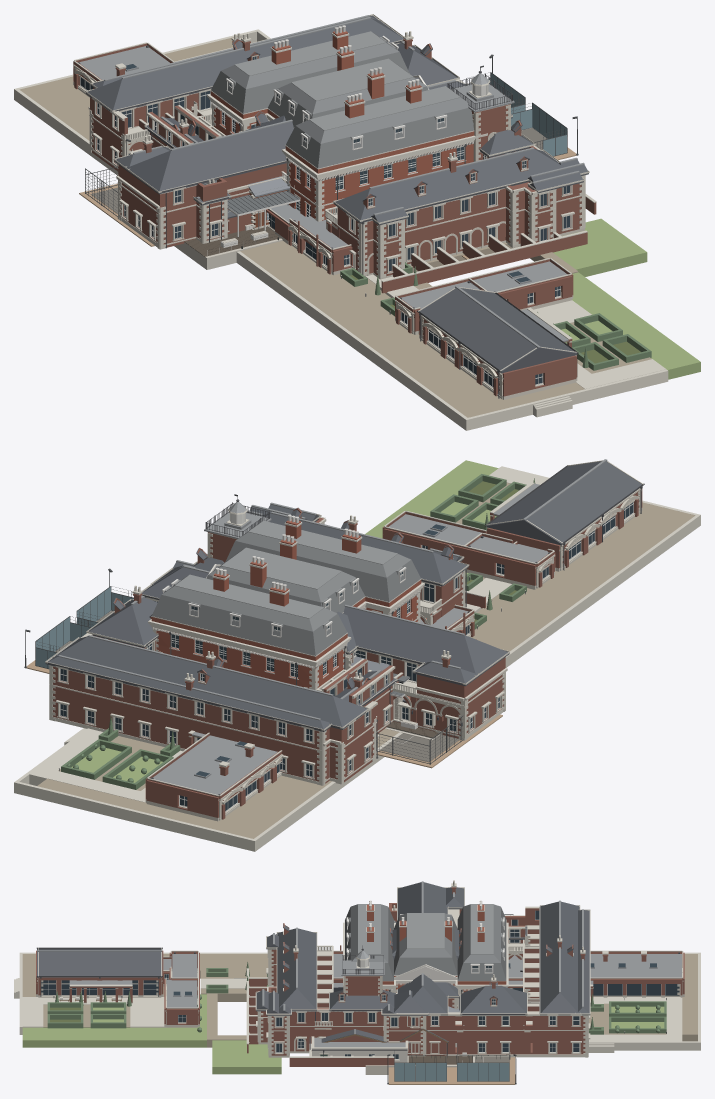
Rendered from assets.glb.
3 renders of one model, top to bottom at view 1: azimuth 30°, elevation 25°; view 2: azimuth 150°, elevation 25°; view 3: azimuth 270°, elevation 25°, orthographic. The views are drawn at different scales.
Parts seen in each view (by area): view 1: asset:spa-linear, asset:main-house, asset:north-courtyard, asset:south-courtyard.04, asset:south-courtyard.06, asset:south-courtyard.05, asset:courts, asset:river-club, asset:south-courtyard.03, smass_c_asset:south-courtyard.14, smass_c_asset:south-courtyard.15, smass_c_asset:south-courtyard.16 (+2 smaller); view 2: asset:spa-linear, asset:main-house, asset:south-courtyard.04, asset:south-courtyard.06, asset:south-courtyard.05, asset:north-courtyard, asset:courts, smass_c_asset:south-courtyard.14, asset:south-courtyard.01, asset:south-courtyard.03, smass_c_asset:south-courtyard.16, smass_c_asset:south-courtyard.15 (+4 smaller); view 3: asset:spa-linear, asset:north-courtyard, asset:main-house, asset:south-courtyard.04, asset:south-courtyard.06, asset:courts, asset:south-courtyard.05, smass_c_asset:south-courtyard.16, smass_c_asset:south-courtyard.14, asset:south-buildings, smass_c_asset:south-courtyard.15, asset:river-club (+6 smaller).
Part boxes in pixels (x1,y1,x2,y2): asset:spa-linear: (14,29,700,430); asset:main-house: (207,25,487,221); asset:north-courtyard: (239,65,596,293); asset:south-courtyard.04: (86,15,466,205); asset:south-courtyard.06: (90,39,286,247); asset:south-courtyard.05: (85,14,468,249); asset:courts: (79,54,578,259); asset:river-club: (174,180,300,269); asset:south-courtyard.03: (104,15,456,198); smass_c_asset:south-courtyard.14: (145,43,457,148); smass_c_asset:south-courtyard.15: (144,31,459,147); smass_c_asset:south-courtyard.16: (149,39,431,148); asset:spa-linear: (14,459,700,851); asset:main-house: (148,515,424,689); asset:south-courtyard.04: (45,567,509,731); asset:south-courtyard.06: (53,635,505,783); asset:south-courtyard.05: (45,569,509,785); asset:north-courtyard: (150,494,485,665); asset:courts: (24,568,502,768); smass_c_asset:south-courtyard.14: (88,597,397,706); asset:south-courtyard.01: (60,601,499,776); asset:south-courtyard.03: (58,565,464,720); smass_c_asset:south-courtyard.16: (94,593,393,733); smass_c_asset:south-courtyard.15: (86,585,397,737); asset:spa-linear: (14,945,700,1074); asset:north-courtyard: (246,923,459,1066); asset:main-house: (343,900,508,1009); asset:south-courtyard.04: (394,882,589,1015); asset:south-courtyard.06: (389,887,585,1054); asset:courts: (333,914,522,1084); asset:south-courtyard.05: (392,880,590,1057); smass_c_asset:south-courtyard.16: (462,916,525,1054); smass_c_asset:south-courtyard.14: (460,926,527,1015); asset:south-buildings: (309,983,456,1062); smass_c_asset:south-courtyard.15: (460,915,528,1057); asset:river-club: (365,1052,474,1074).
Size of the model in its own units: 68.72 by 22.5 by 131.
